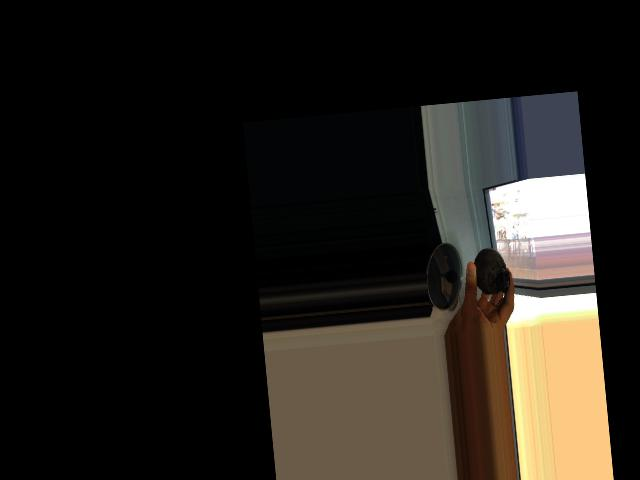beet: (472, 246, 512, 308)
